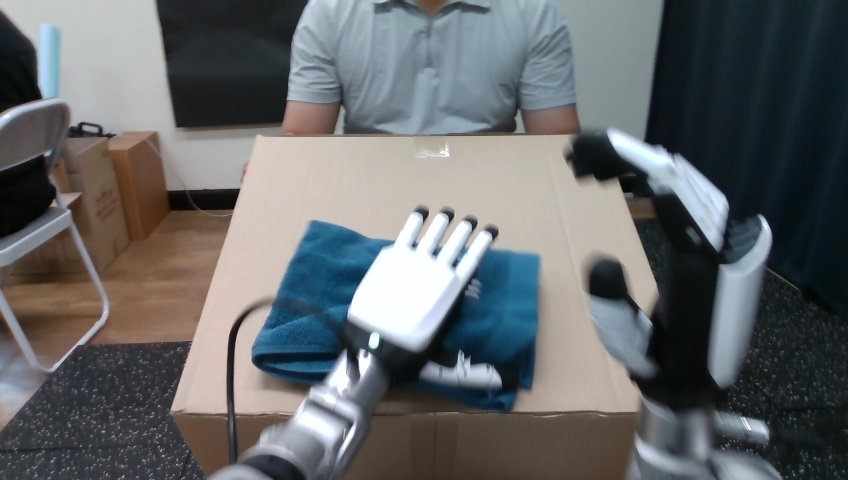left robot hand: (210, 206, 497, 479), (567, 128, 779, 478)
